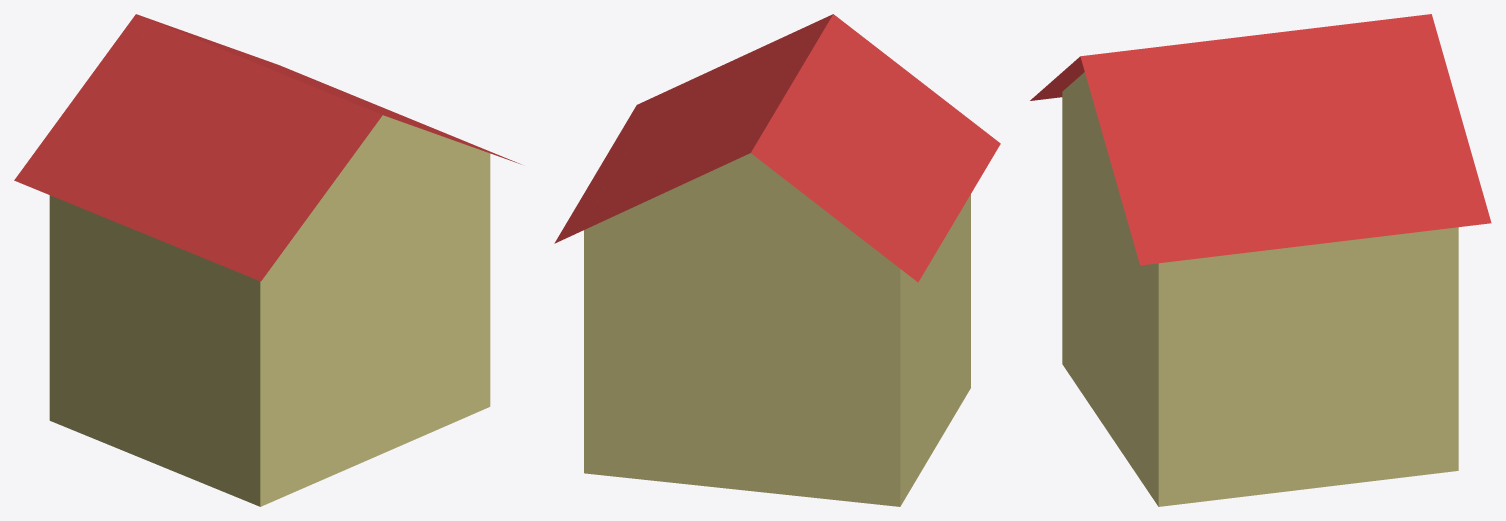
3 renders of one model, left to right at view 1: azimuth 30°, elevation 25°; view 2: azimuth 150°, elevation 25°; view 3: azimuth 270°, elevation 25°, orthographic. The views are drawn at different scales.
Visible parts, largest first — view 1: group_5, group_3, group_4; view 2: group_5, group_3, group_4; view 3: group_5, group_3, group_4.
Boxes of the visible parts, x1,y1,x2,y2 form: group_5: (49,115,490,506); group_3: (14,15,487,281); group_4: (91,14,521,164); group_5: (584,153,970,506); group_3: (584,14,1000,282); group_4: (554,14,842,243); group_5: (1062,72,1458,506); group_3: (1086,14,1486,265); group_4: (1030,14,1491,265).
Size of the model in its own units: 13.75 by 13 by 11.66.
